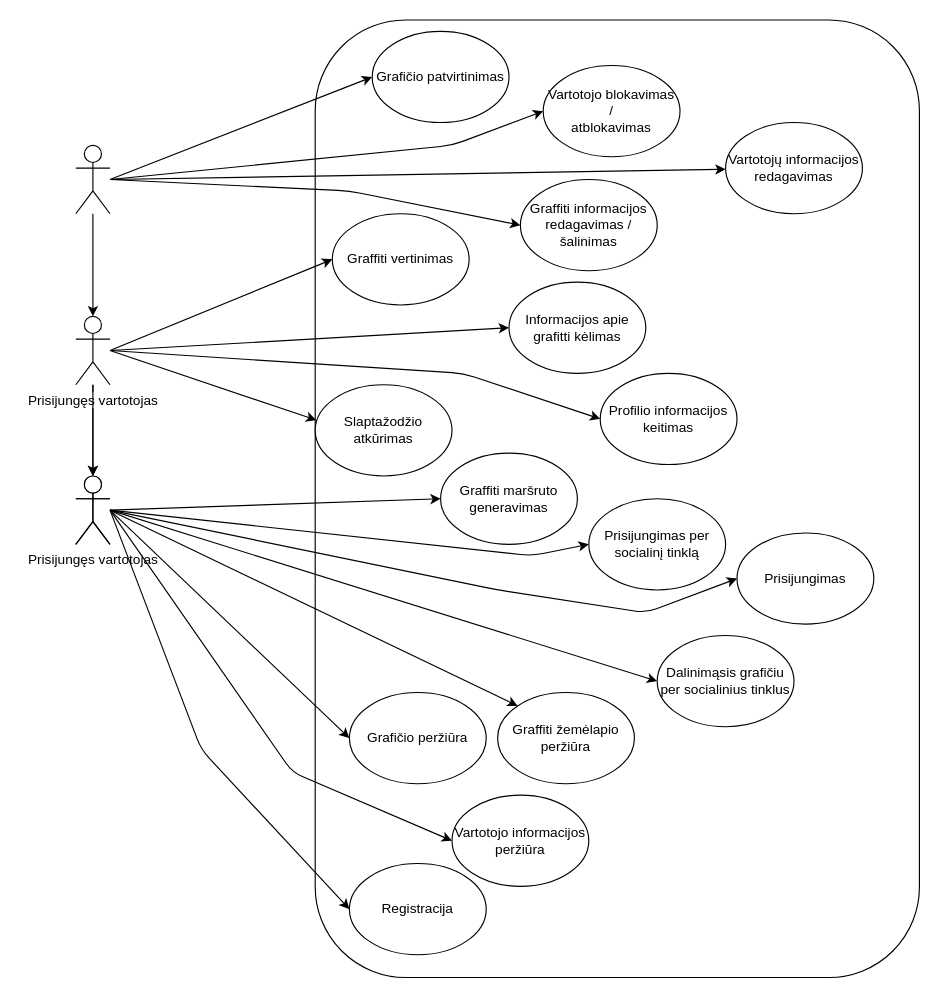
The diagram is 939 pixels wide and 998 high, and some of its shapes have lost their labels. Here are the shapes that lost their labels. From the top down, the centre of each, then its label:
(x=92, y=179): Administratorius
(x=92, y=509): Neprisijungęs vartotojas
